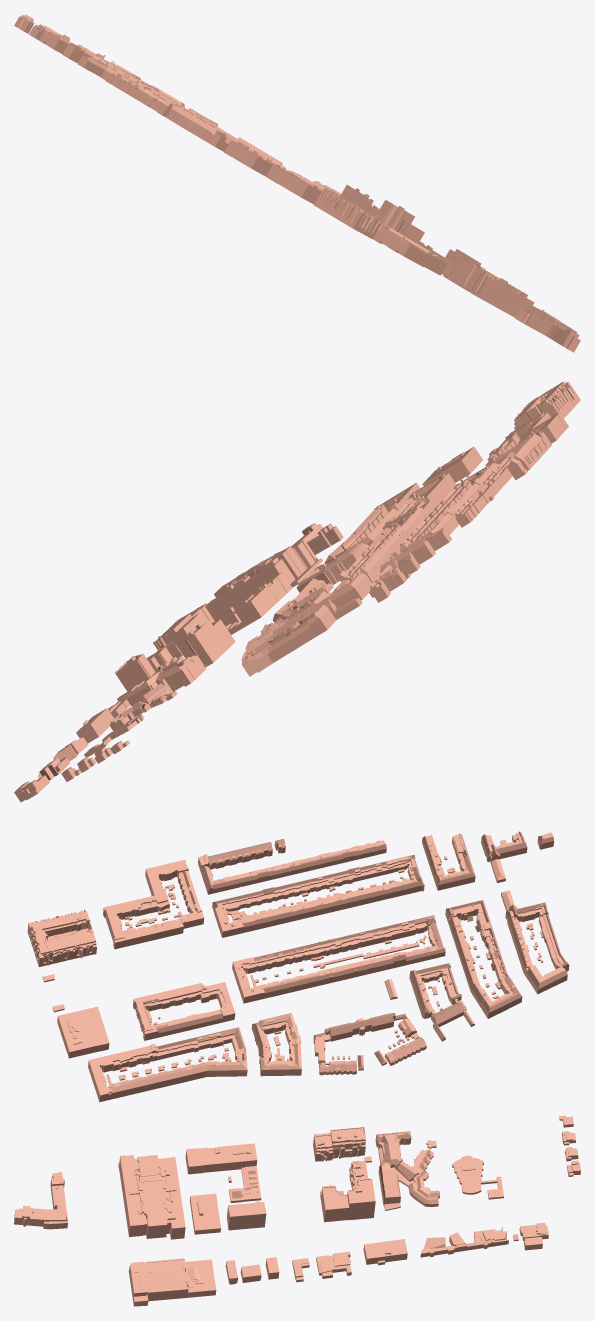
3 views of the same model, one above another, from view 1: azimuth 30°, elevation 25°; view 2: azimuth 150°, elevation 25°; view 3: azimuth 270°, elevation 25° (orthographic). The views are drawn at different scales.
Bounding box in the file's own units: 1.6e+07 × 1.17e+07 × 2.03e+07.
